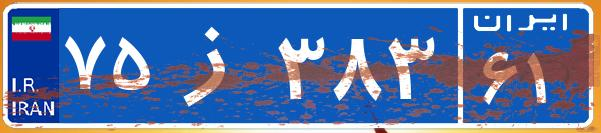1: (525, 38, 570, 115)
3: (385, 28, 445, 110), (273, 28, 330, 110)
5: (110, 28, 158, 105)
6: (475, 38, 525, 113)
7: (57, 26, 110, 107)
8: (330, 28, 385, 110)
ز: (158, 15, 273, 115)
